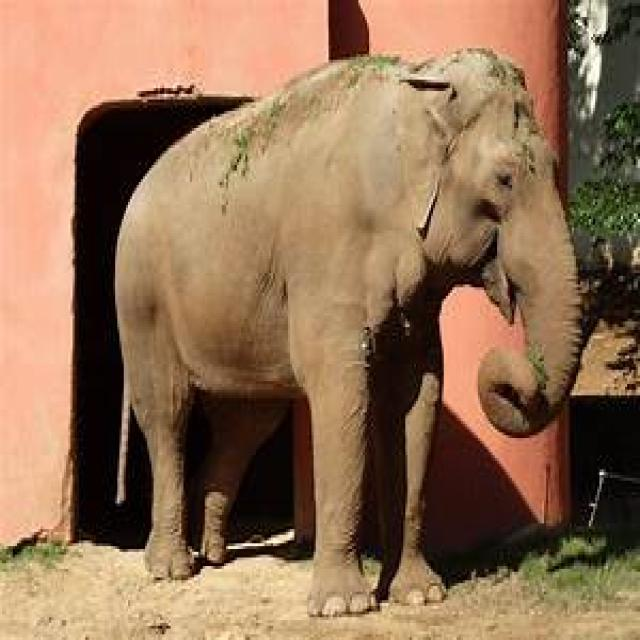elephant: (111, 48, 582, 617)
